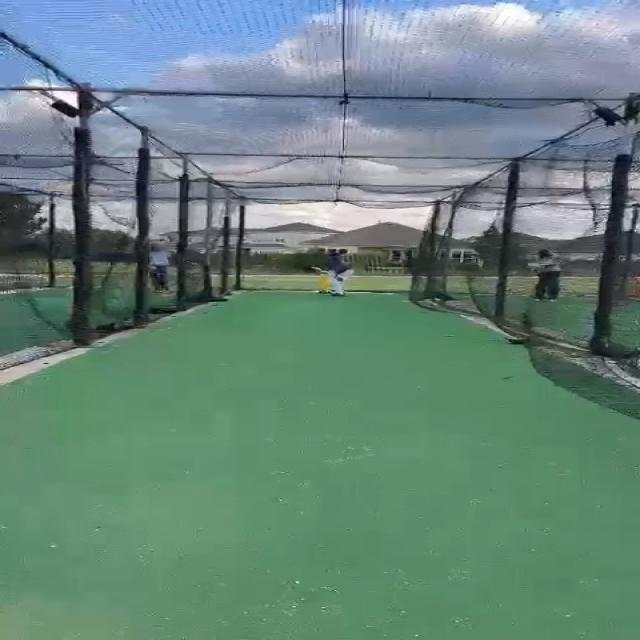batsman: (309, 252, 355, 297)
